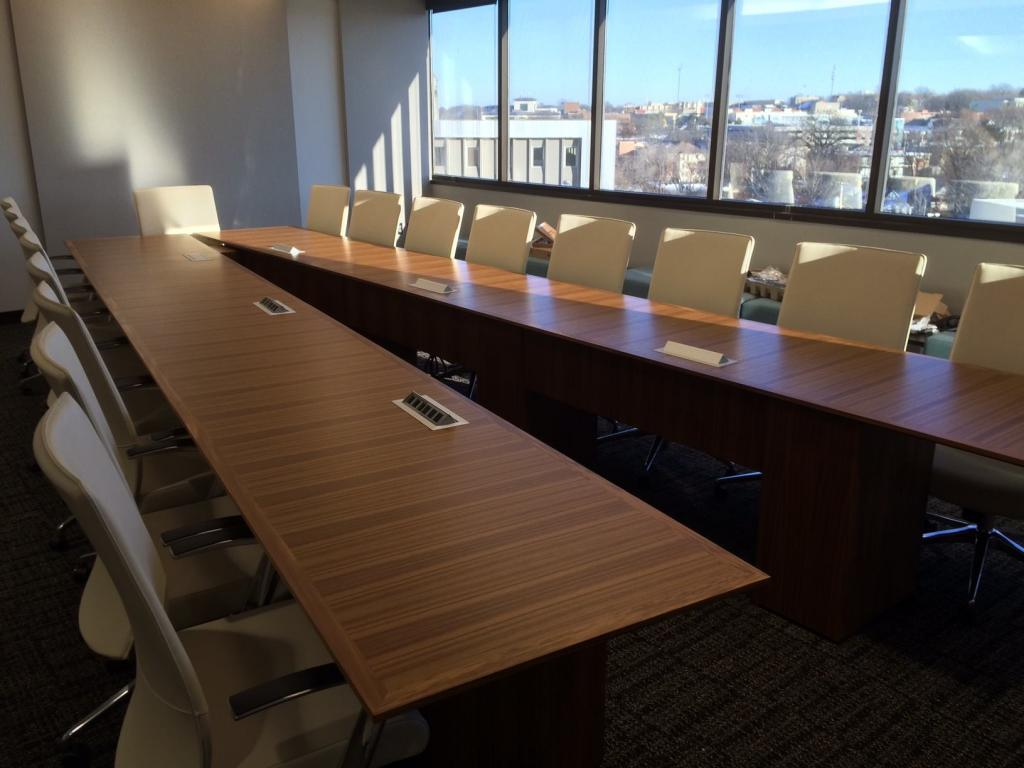conference_table: (67, 222, 768, 763), (197, 211, 1019, 613)
